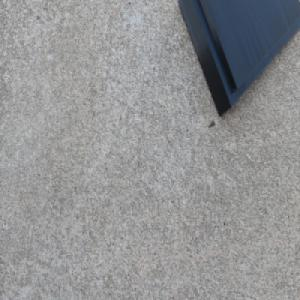PlasticPart: (177, 0, 300, 118)
